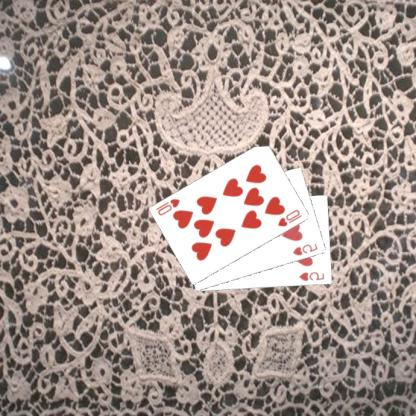10H: (277, 207, 305, 228), (155, 196, 183, 217)
5H: (292, 240, 321, 258), (298, 269, 328, 283)
